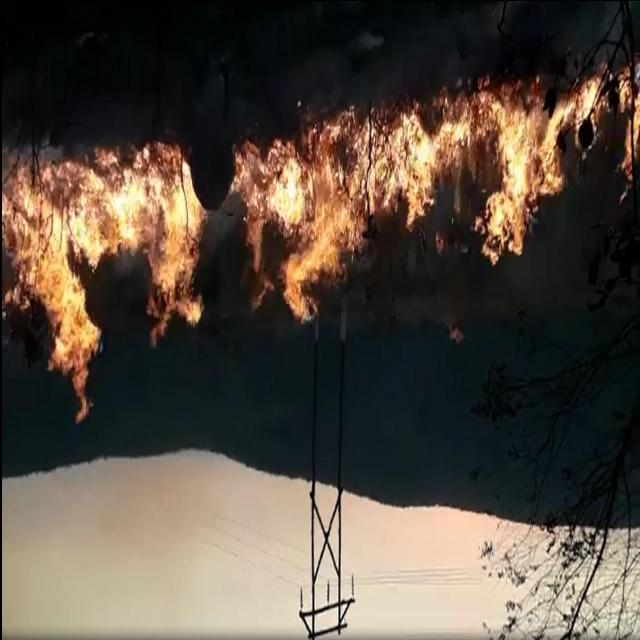Fire: (242, 69, 638, 315), (2, 140, 204, 425)
